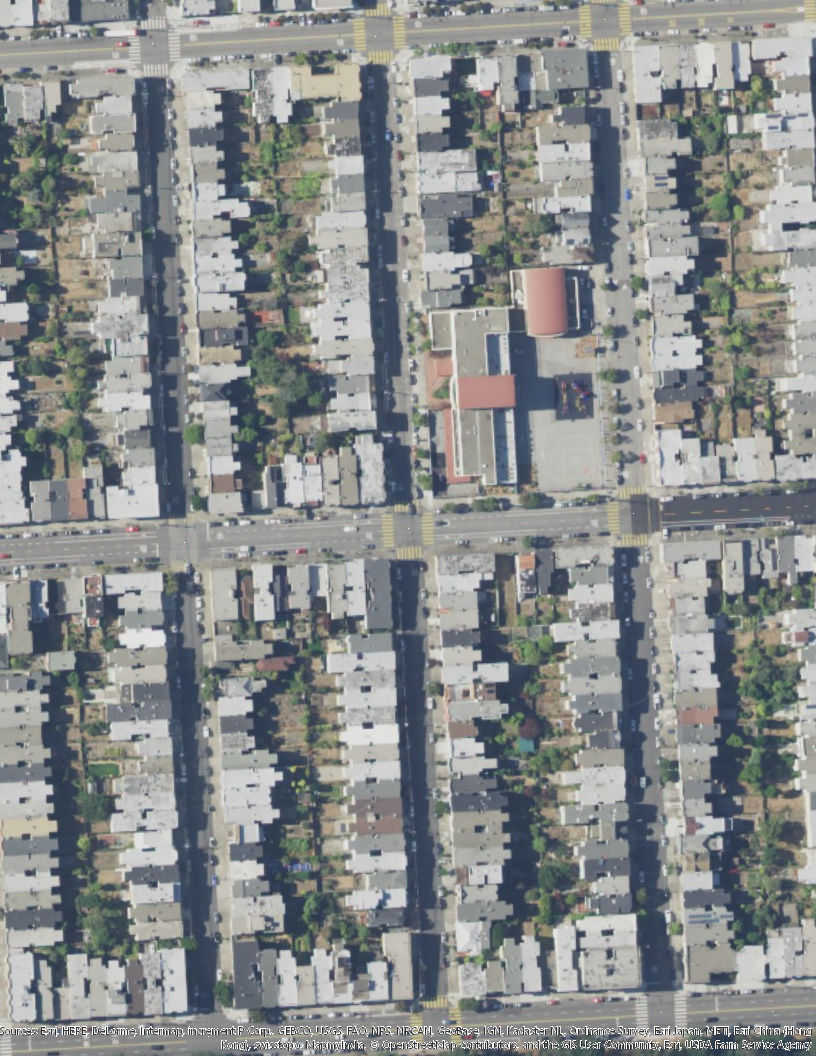zebracross: (352, 18, 368, 52), (616, 4, 633, 36), (576, 4, 592, 38), (590, 36, 619, 53), (166, 30, 182, 60), (634, 998, 650, 1028), (606, 499, 620, 533), (392, 16, 406, 48), (381, 514, 395, 546), (674, 997, 688, 1029), (450, 1009, 462, 1046), (422, 512, 435, 543), (424, 995, 449, 1011), (618, 487, 651, 499), (138, 17, 166, 31), (365, 3, 391, 18), (393, 498, 420, 512), (140, 64, 169, 77), (368, 51, 394, 65), (396, 546, 422, 560), (410, 1013, 423, 1041), (129, 35, 142, 62), (619, 535, 648, 546), (1, 1036, 11, 1056)
